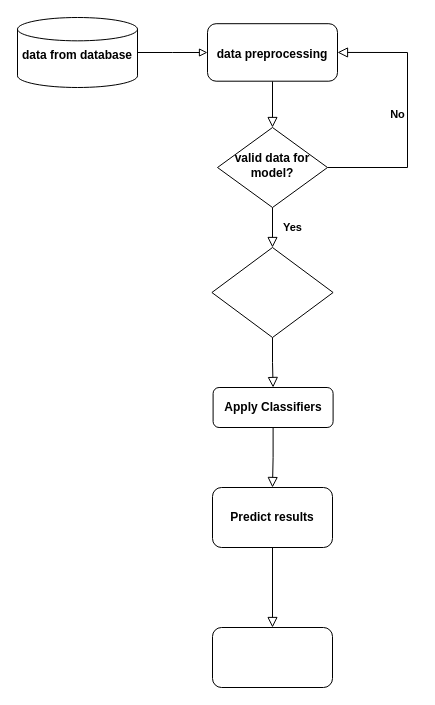
Some shapes in this 435 by 705 pixel diagram are drawn without their labels. Each missing label, with the box of its shape:
Result Analysis: (212, 626, 332, 688)
train model with data: (211, 246, 333, 338)
